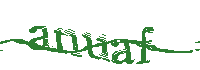a: (111, 36, 134, 67), (26, 25, 50, 52)
f: (135, 24, 153, 66)
n: (51, 27, 81, 58)
u: (81, 31, 110, 62)
